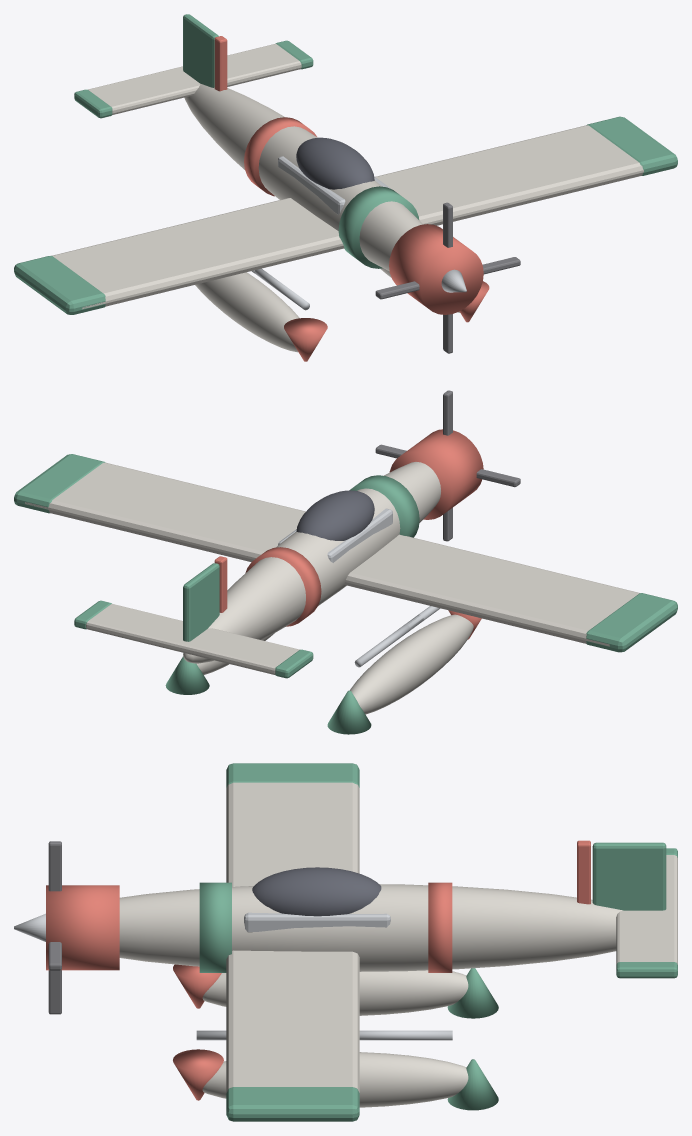
The model's file is porco-fighter.glb.
3 renders of one model, top to bottom at view 1: azimuth 30°, elevation 25°; view 2: azimuth 150°, elevation 25°; view 3: azimuth 270°, elevation 25°, orthographic. The views are drawn at different scales.
Visible parts, largest first — view 1: wing_main, fuselage_body, nose_cowl, stab_main, float_l, wing_tip_l, canopy, wing_tip_r, band_green, fin_main, band_red, float_nose_l (+6 smaller); view 2: wing_main, fuselage_body, stab_main, float_l, nose_cowl, wing_tip_l, canopy, wing_tip_r, fin_main, band_green, band_red, float_tail_l (+7 smaller); view 3: wing_main, fuselage_body, nose_cowl, float_r, fin_main, canopy, float_l, wing_tip_r, stab_main, band_green, wing_tip_l, band_red (+9 smaller).
Boxes of the visible parts, <box> form: wing_main: <box>51,125,643,309</box>; fuselage_body: <box>184,83,422,271</box>; nose_cowl: <box>389,224,483,314</box>; stab_main: <box>88,44,301,114</box>; float_l: <box>195,272,299,352</box>; wing_tip_l: <box>14,256,105,314</box>; canopy: <box>296,137,374,189</box>; wing_tip_r: <box>586,116,677,175</box>; band_green: <box>338,186,419,268</box>; fin_main: <box>183,14,218,87</box>; band_red: <box>244,117,316,196</box>; float_nose_l: <box>284,318,327,361</box>; wing_main: <box>25,462,640,646</box>; fuselage_body: <box>183,462,440,663</box>; stab_main: <box>86,604,299,674</box>; float_l: <box>350,614,473,714</box>; nose_cowl: <box>389,429,483,519</box>; wing_tip_l: <box>586,593,677,652</box>; canopy: <box>296,490,374,540</box>; wing_tip_r: <box>14,454,105,513</box>; fin_main: <box>183,563,219,641</box>; band_green: <box>350,475,419,537</box>; band_red: <box>245,547,321,626</box>; float_tail_l: <box>327,690,371,734</box>; wing_main: <box>226,782,359,1092</box>; fuselage_body: <box>119,884,622,971</box>; nose_cowl: <box>46,885,119,970</box>; float_r: <box>202,1052,468,1107</box>; fin_main: <box>592,842,666,910</box>; canopy: <box>252,867,381,916</box>; float_l: <box>202,970,468,1015</box>; wing_tip_r: <box>226,1087,359,1121</box>; stab_main: <box>616,855,677,964</box>; band_green: <box>199,882,231,972</box>; wing_tip_l: <box>226,763,359,787</box>; band_red: <box>428,882,452,972</box>.
Bounding box in the file's own units: 11.72 × 3.43 × 9.47.
